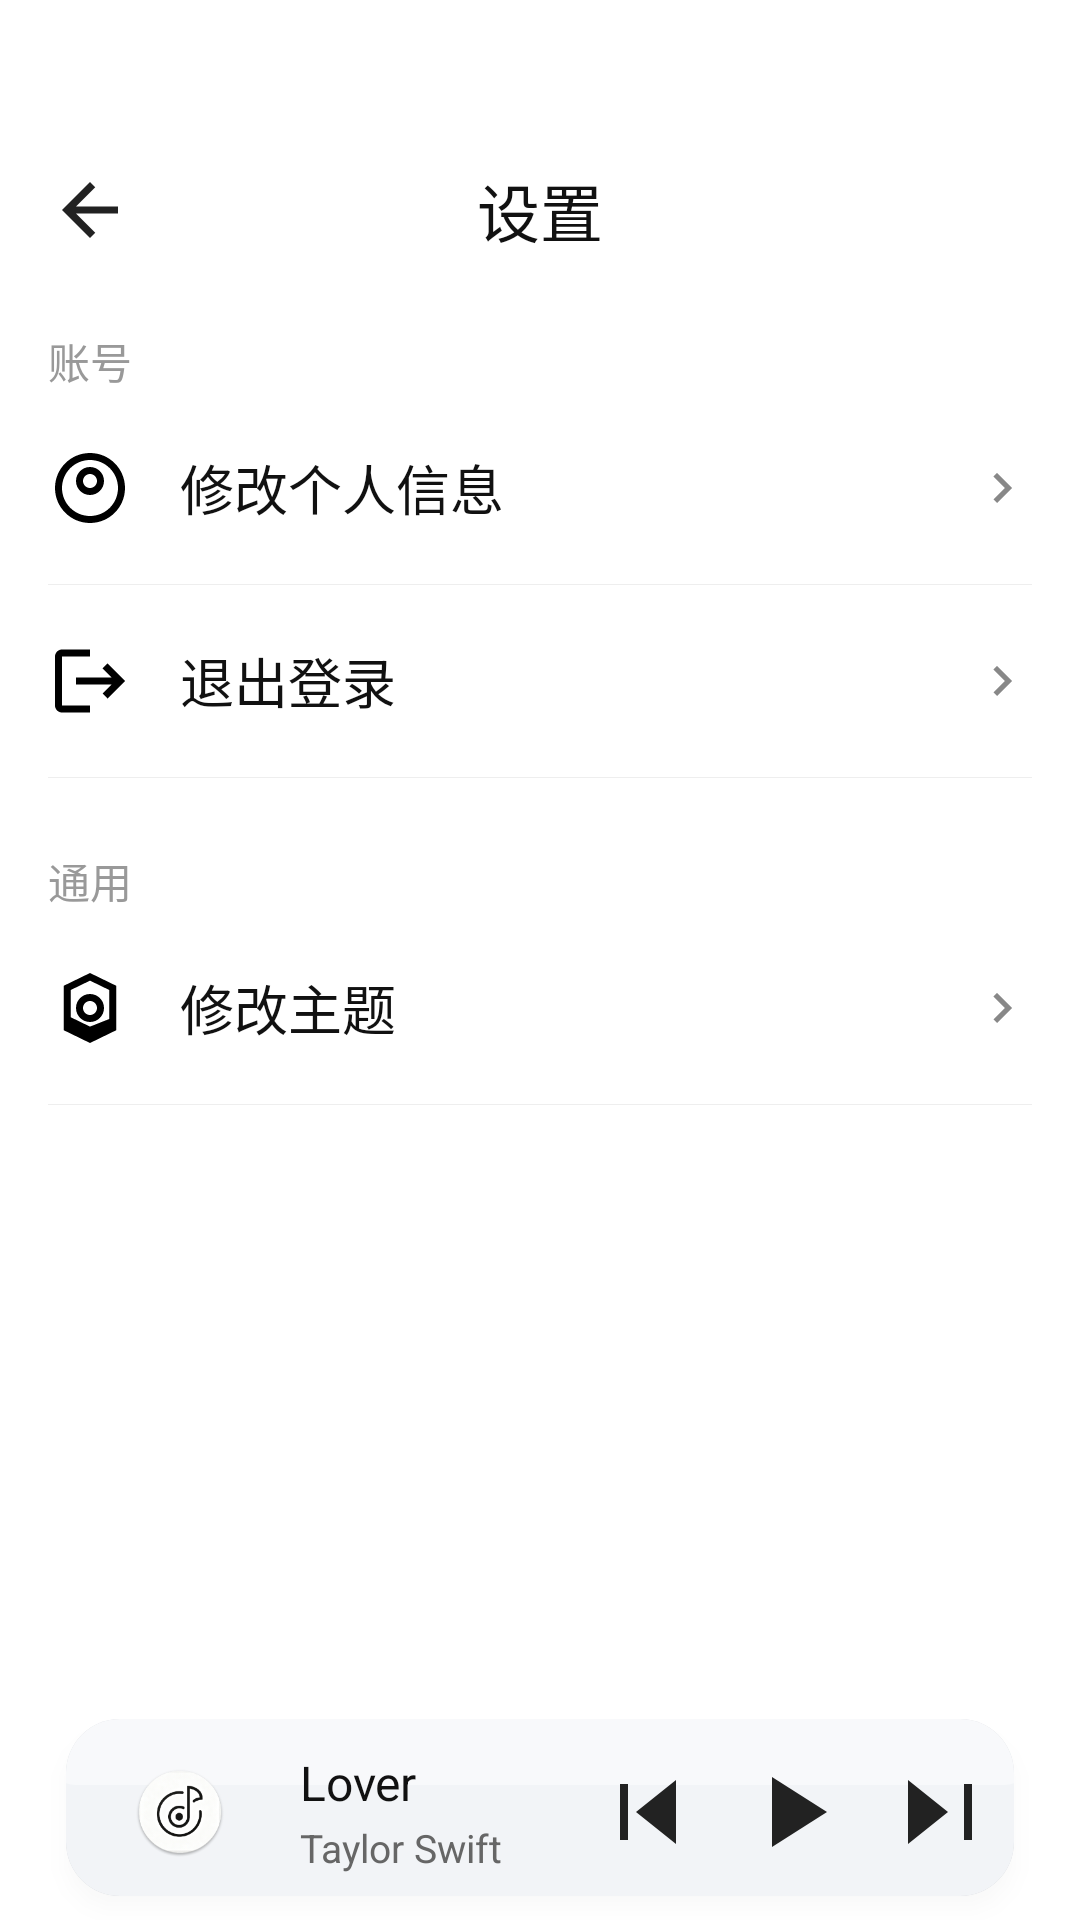

Icon click points for this 1080 x 1920 phone screenshot, format (x=x, y=y):
back: (x=90, y=210)
next: (x=940, y=1812)
play triangle: (x=799, y=1812)
prev: (x=648, y=1812)
主题设置图标: (x=90, y=1008)
前往详情: (x=1002, y=488), (x=1002, y=681), (x=1002, y=1008)
